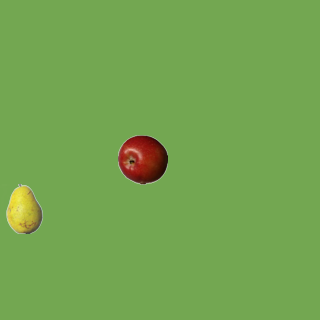Apple Braeburn: (117, 134, 167, 184)
Pear Monster: (0, 183, 49, 233)
